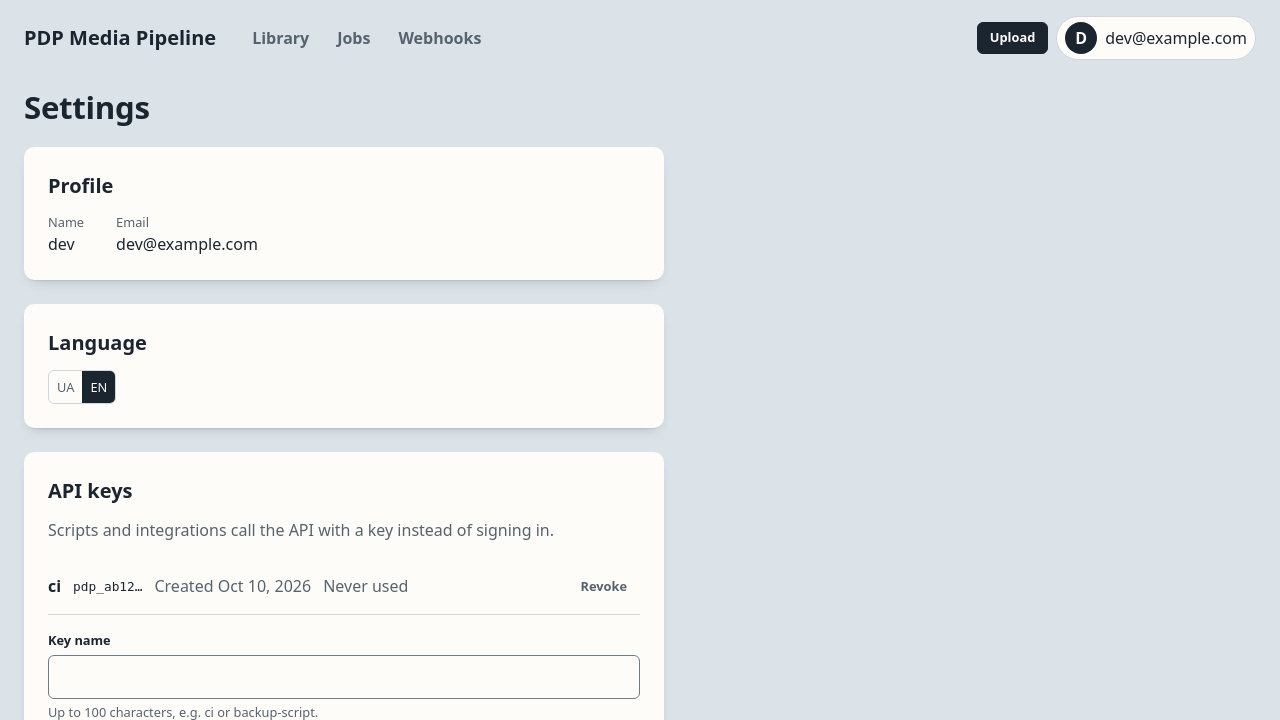
settings › selects the key for a manual copy when the clipboard refuses
Type "deploy" into the field labelled "Key name" at [344, 677], box [48,655,640,699]
(page scrolled)
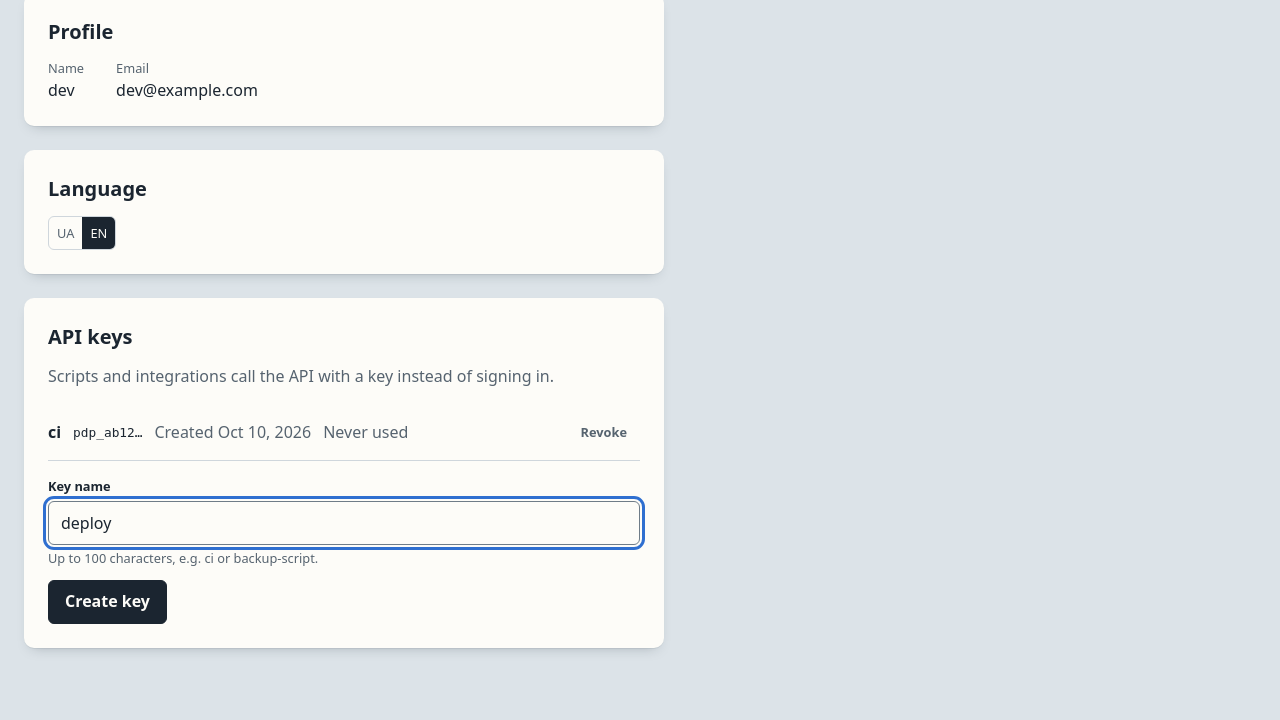
Click the button "Create key" at [108, 602], box [48,580,167,624]
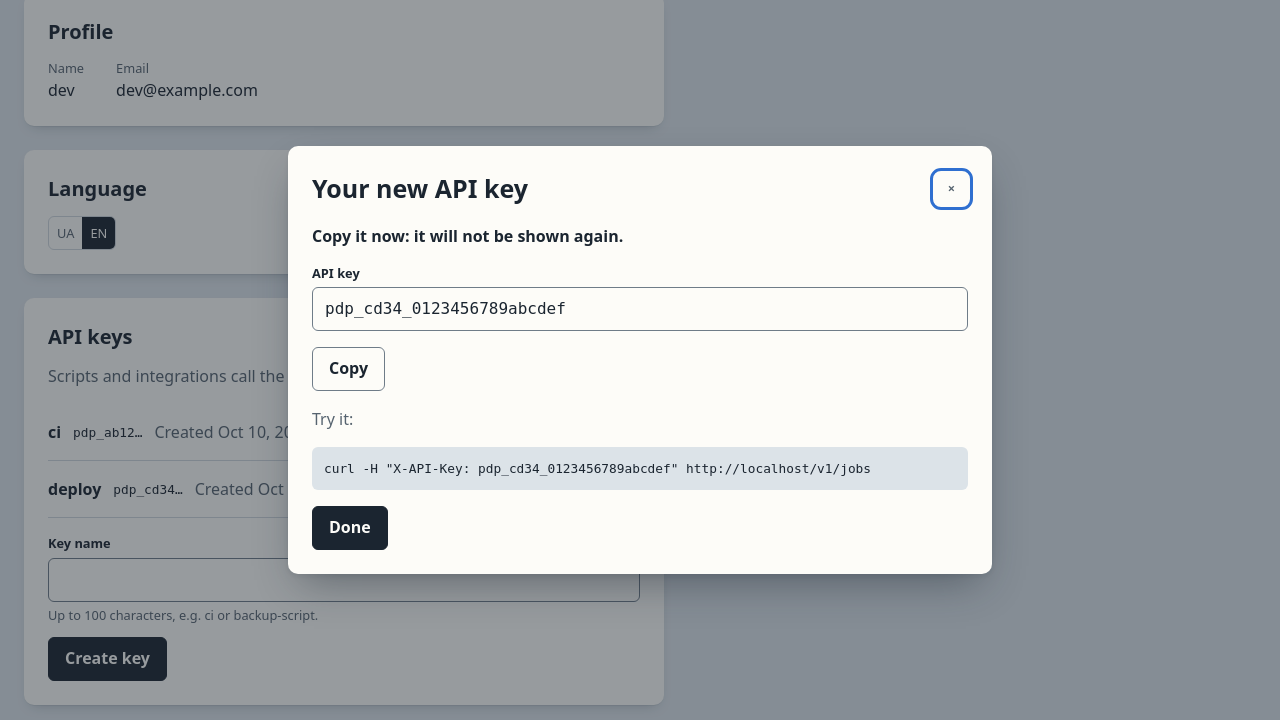
Click the button "Copy" at [348, 369], box [312,347,385,391]
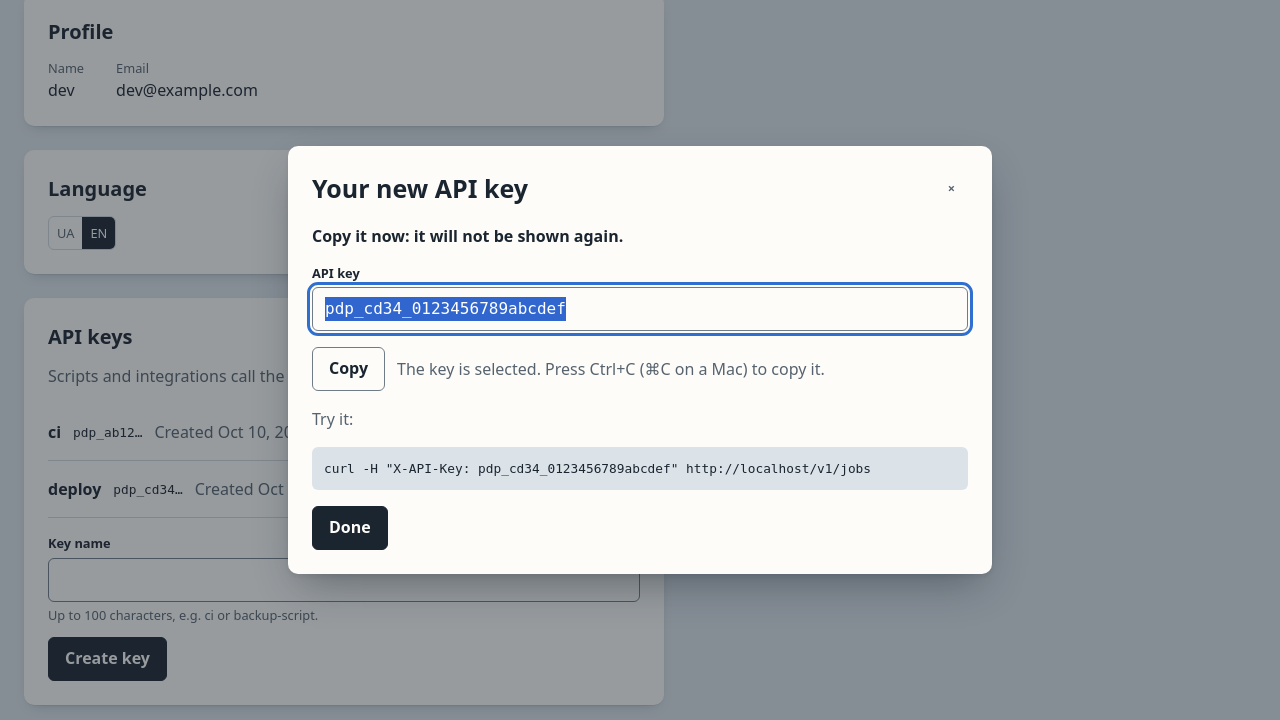
Check: the text "The key is selected. Press Ctrl+C (⌘C on a Mac) to copy it." is shown, box [397,357,825,381]
